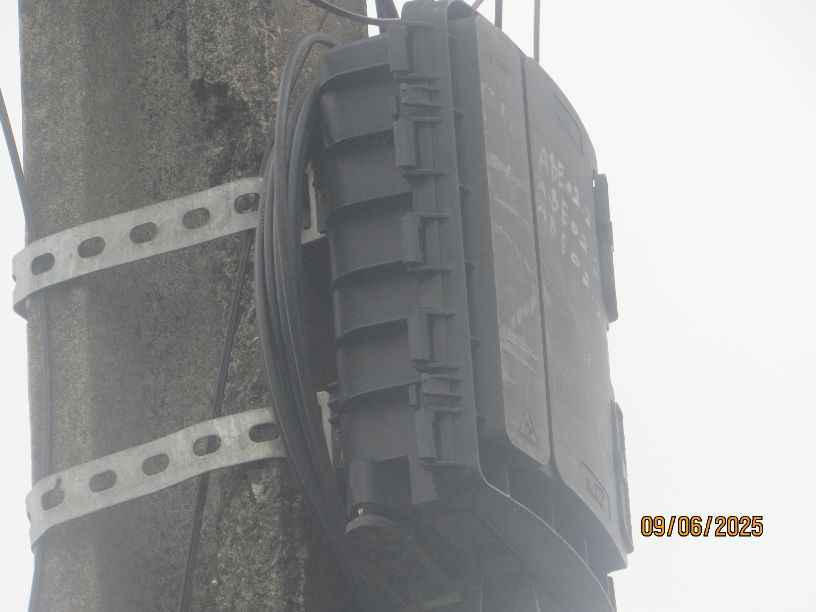caixa_derivacao: (266, 4, 644, 612)
poste: (23, 3, 380, 612)
